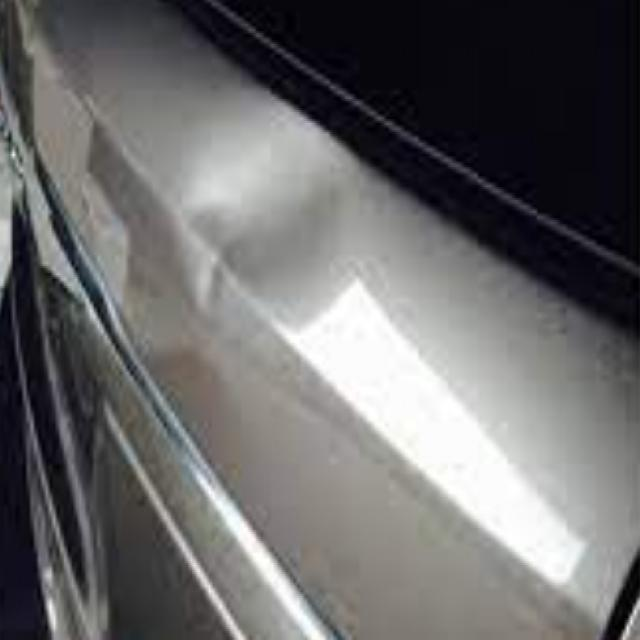dents: (184, 122, 368, 359)
